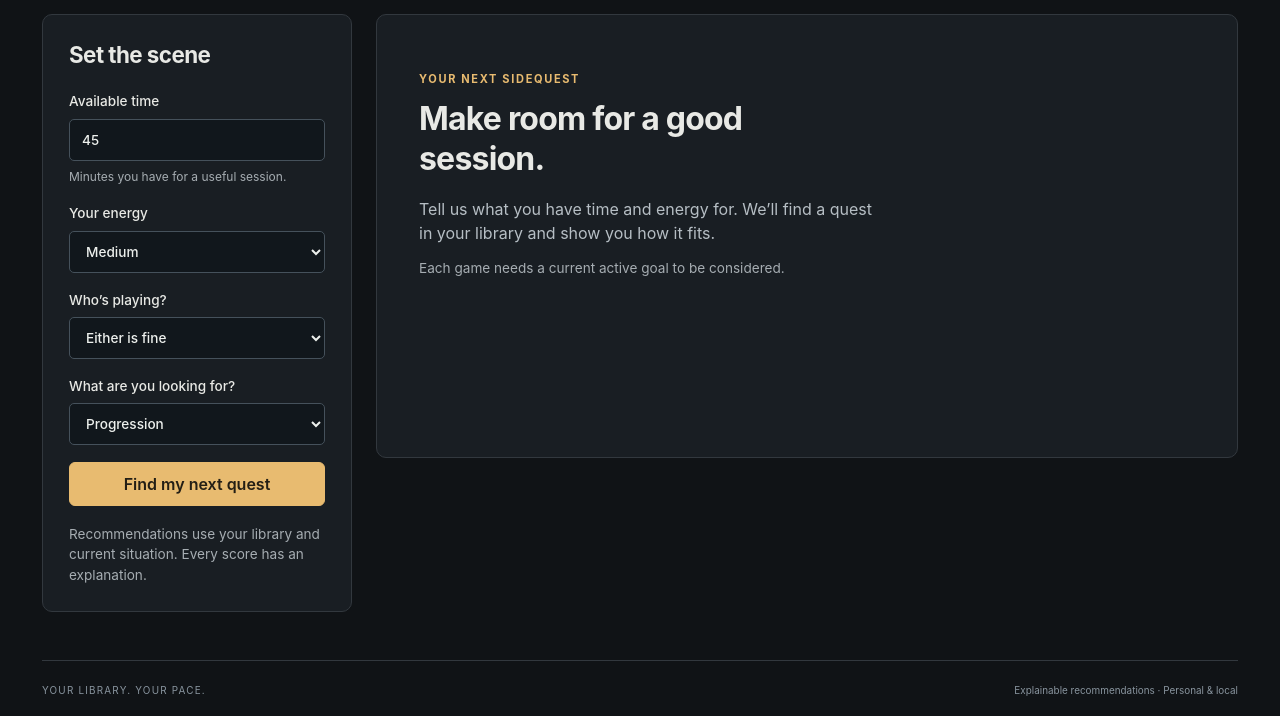
Test: Tonight › offers equivalent alternatives without declaring a unique winner
(page scrolled)
Click the button "Find my next quest".
click(197, 484)  # box [69,462,325,506]
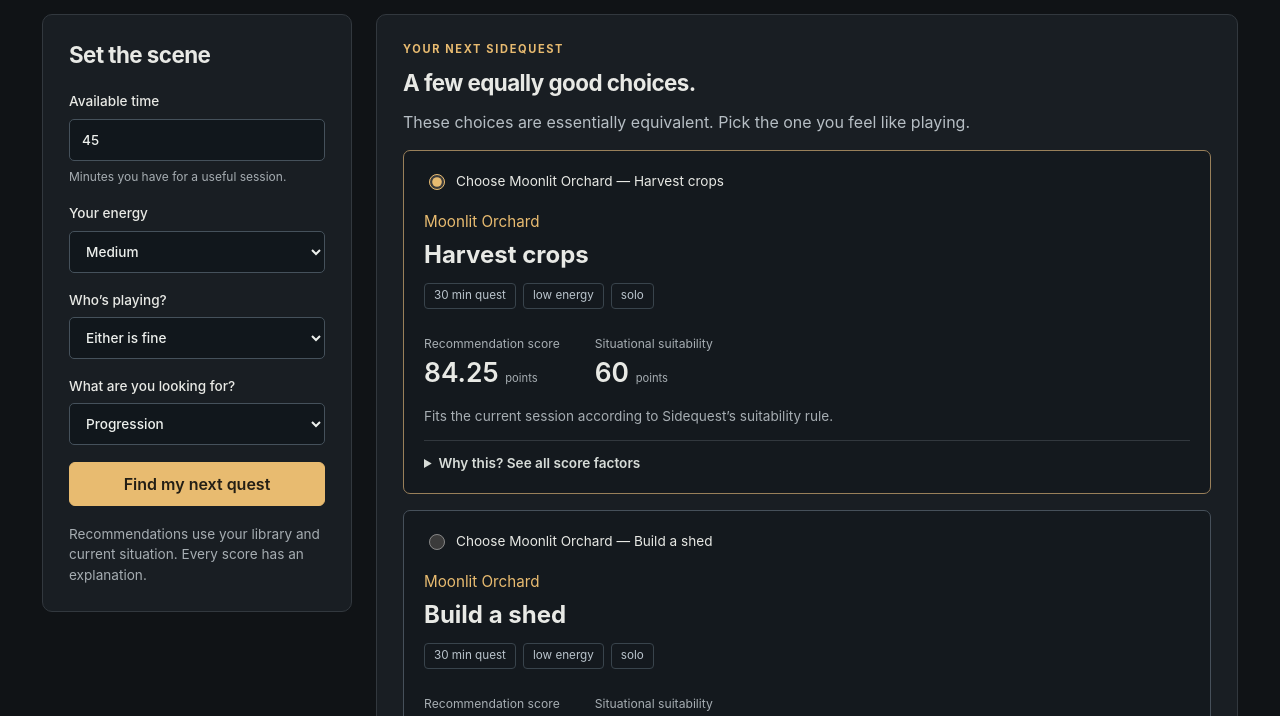
Expected: the heading "A few equally good choices." is shown, [403,69,696,96]
Click the radio button labelled "Choose Moonlit Orchard — Build a shed".
click(437, 542)  # box [429,534,445,550]
(page scrolled)
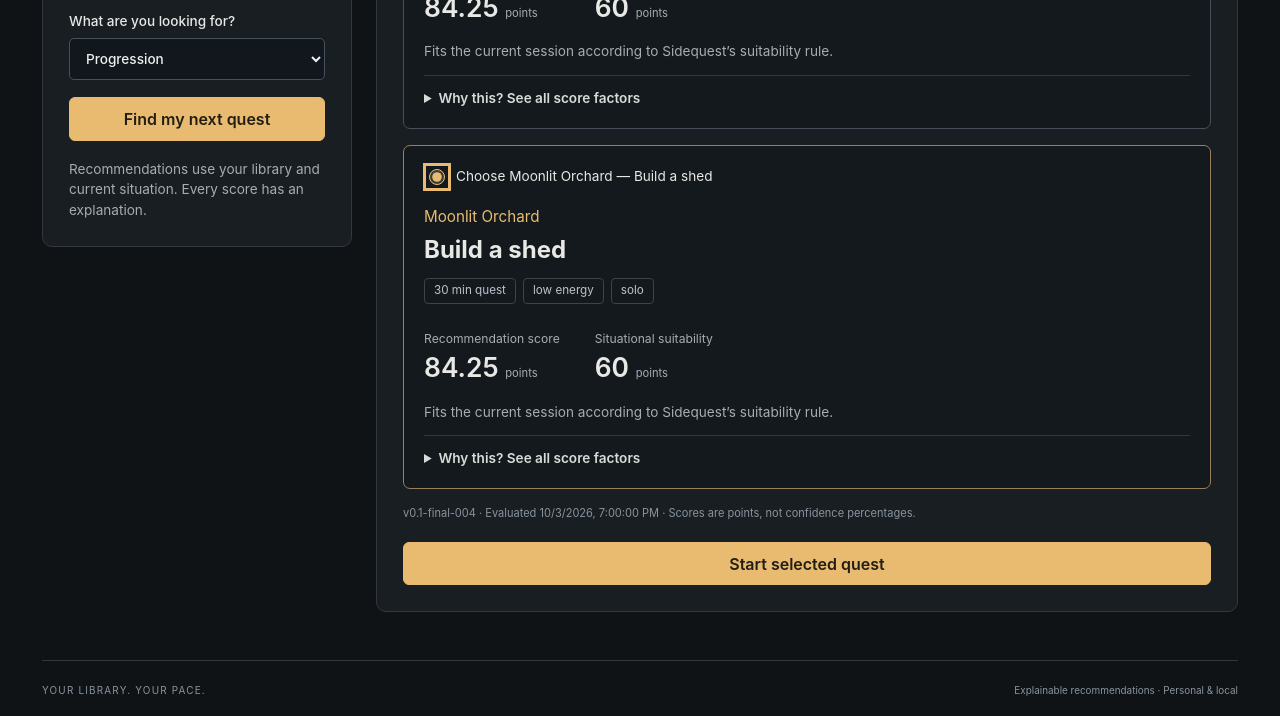
Click the button "Start selected quest".
click(807, 564)  # box [403,542,1211,585]
(page scrolled)
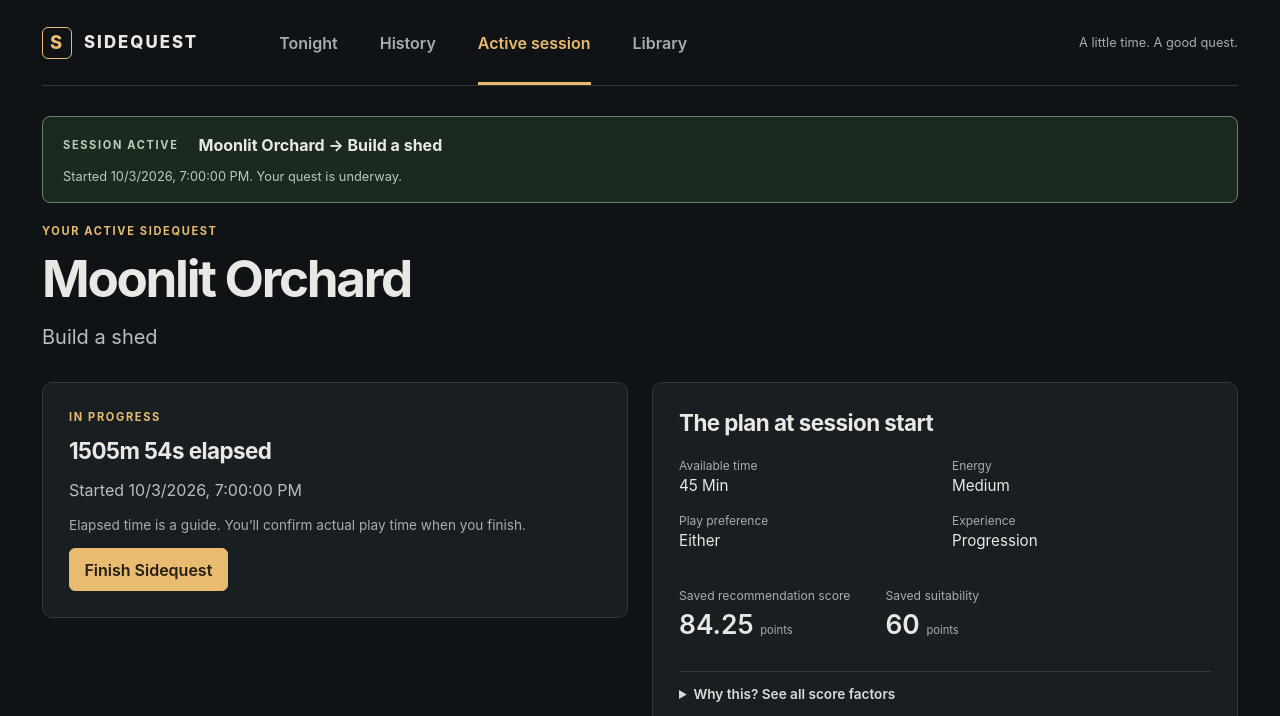
Expected: the text "Session active" is shown, [63,137,178,153]
